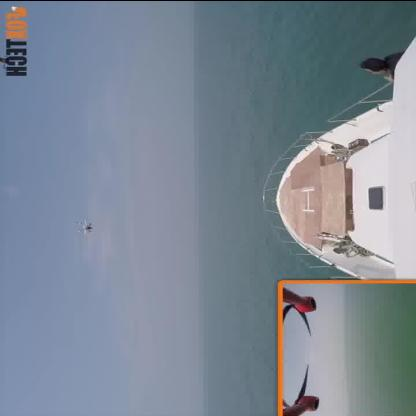drone: (71, 216, 98, 239)
